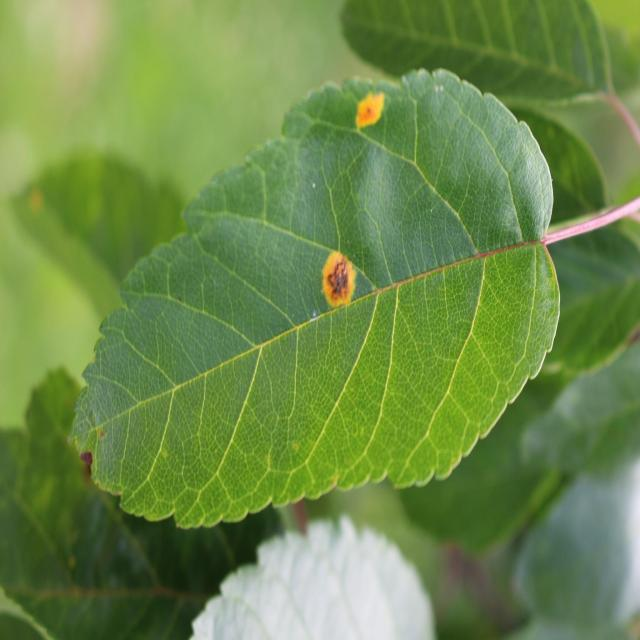Rust: (319, 244, 357, 318), (354, 81, 389, 139)
